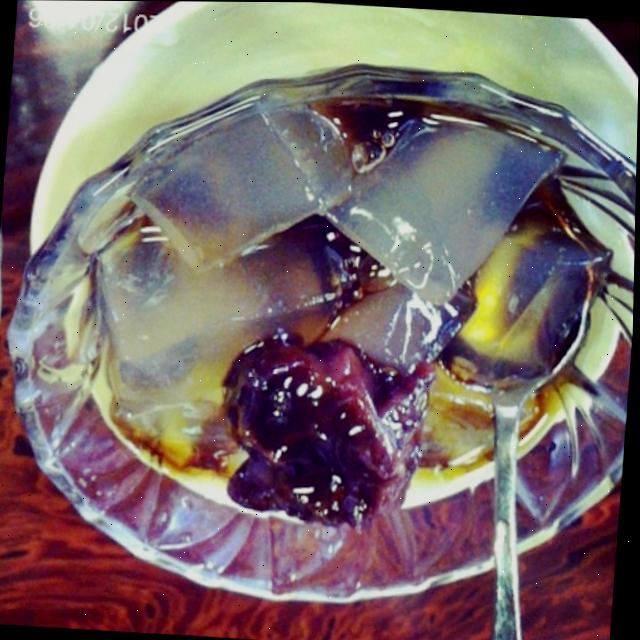蛋糕甜品: (0, 47, 639, 623)
